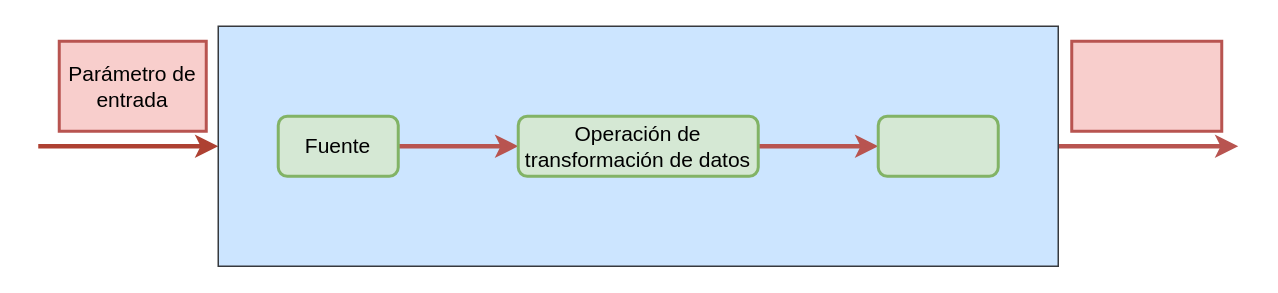
The diagram is 1278 pixels wide and 293 high, and some of its shapes have lost their labels. The box of each missing label's shape, as (x1, y1, x2, y2) in pixels:
Objetivos: (876, 114, 999, 177)
Parámetro de salida: (1070, 39, 1222, 132)
